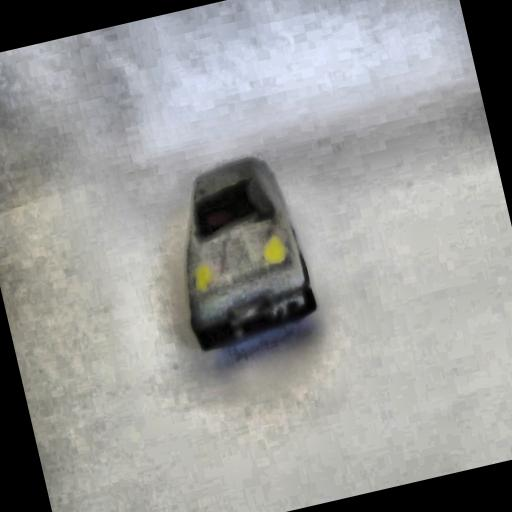normal_car: (154, 147, 327, 356)
